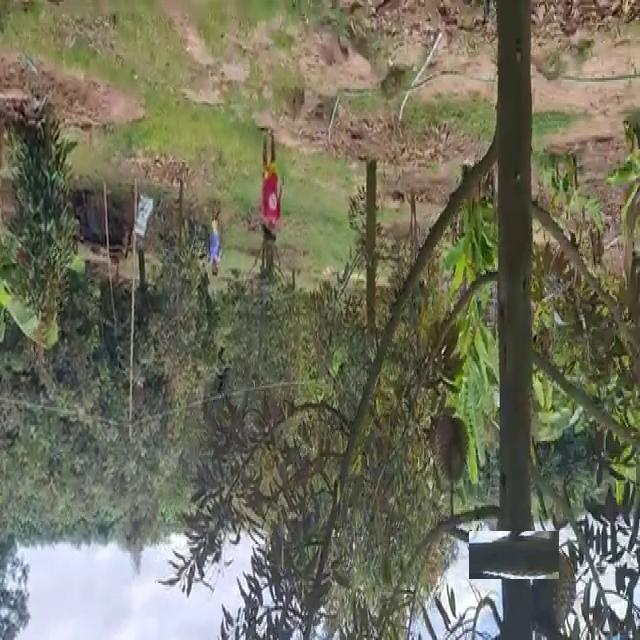durian: (525, 541, 581, 634), (479, 520, 549, 589), (430, 411, 468, 490)
